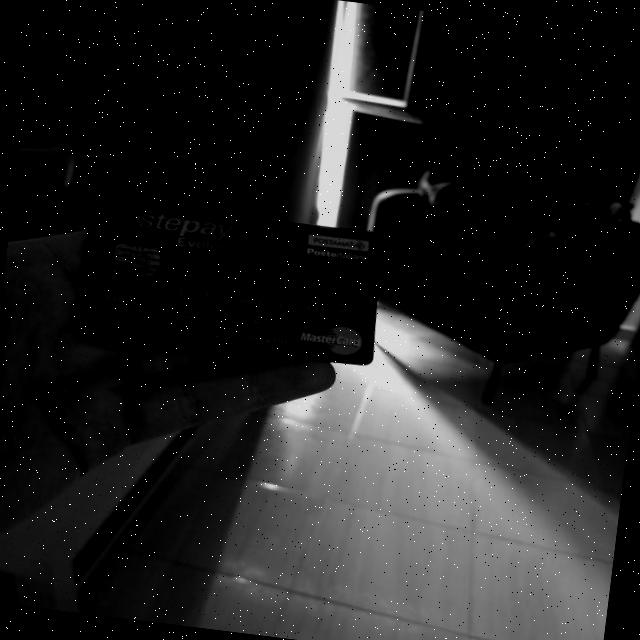card: (73, 199, 385, 364)
